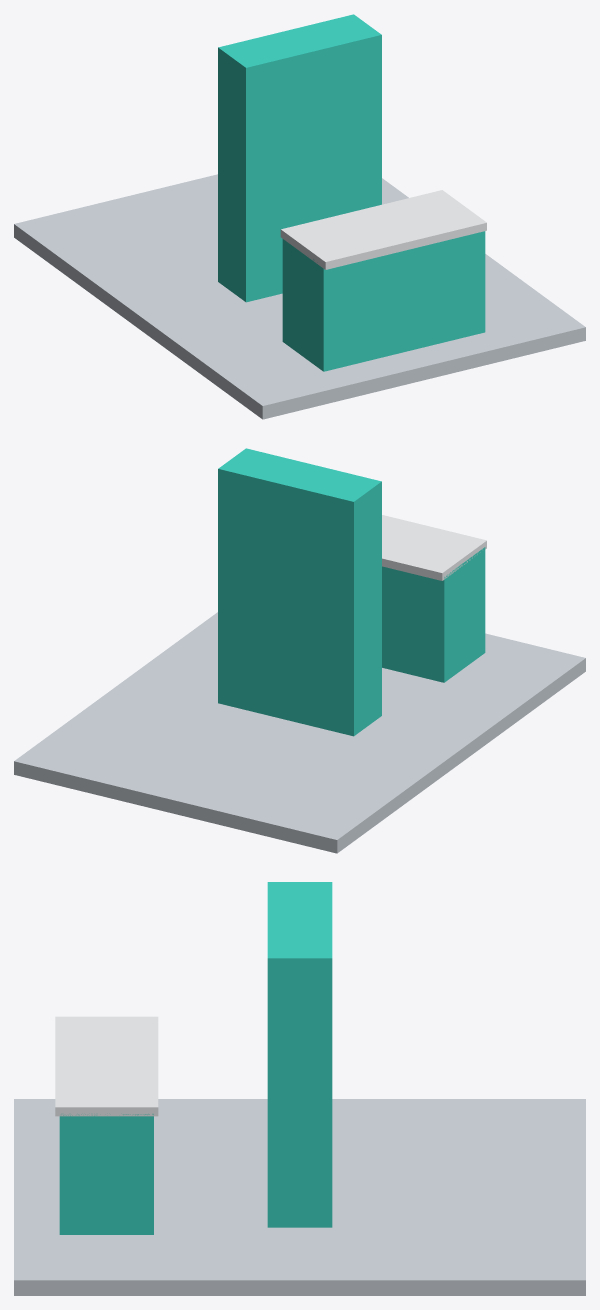
The picture shows the model from 3 angles, top to bottom: view 1: azimuth 30°, elevation 25°; view 2: azimuth 150°, elevation 25°; view 3: azimuth 270°, elevation 25°; orthographic projection. The views are drawn at different scales.
Parts seen in each view (by area): view 1: Exhibition Booth Concept; view 2: Exhibition Booth Concept; view 3: Exhibition Booth Concept.
Part boxes in pixels (x1,y1,x2,y2): Exhibition Booth Concept: (14, 14, 585, 419); Exhibition Booth Concept: (14, 448, 585, 853); Exhibition Booth Concept: (14, 882, 585, 1295).
Size of the model in its own units: 3 by 2.2 by 4.
